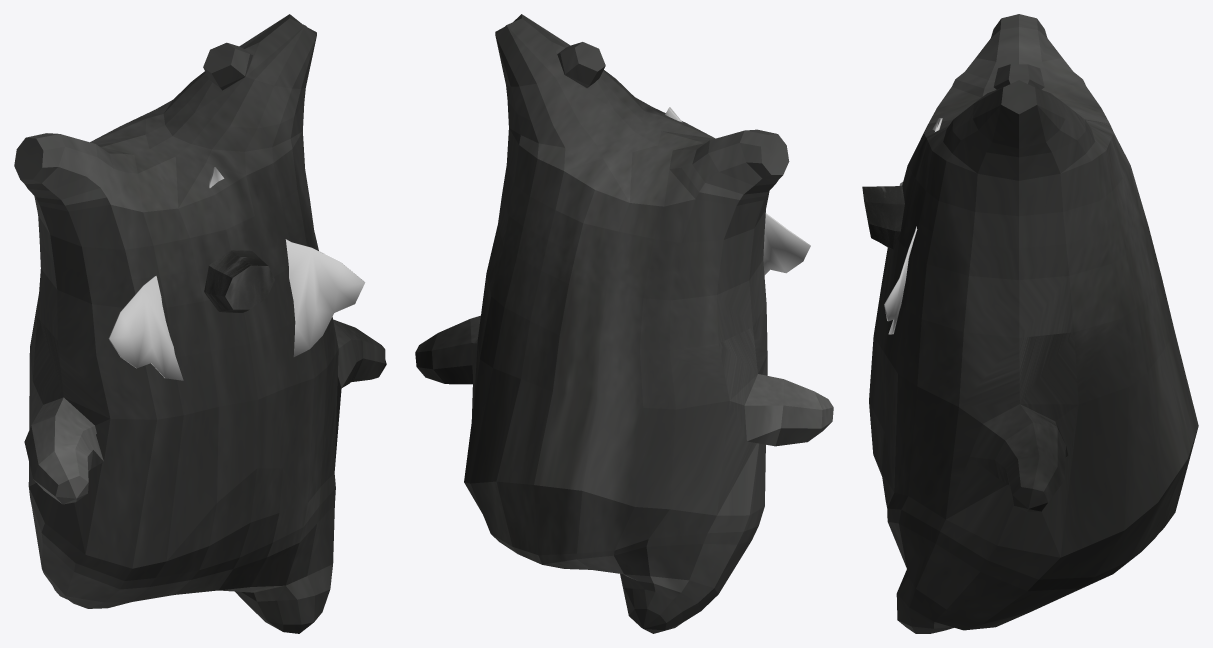
Rendered from frame_0006.obj.
The picture shows the model from 3 angles, left to right: view 1: azimuth 30°, elevation 25°; view 2: azimuth 150°, elevation 25°; view 3: azimuth 270°, elevation 25°; orthographic projection. The views are drawn at different scales.
Parts seen in each view (by area): view 1: korok, leaf, nose; view 2: korok, leaf; view 3: korok, nose, leaf.
Part boxes in pixels (x1,y1,x2,y2): korok: (14,14,386,633); leaf: (108,167,365,380); nose: (204,250,274,312); korok: (415,14,833,633); leaf: (665,107,810,275); korok: (869,14,1198,633); nose: (862,185,904,249); leaf: (884,118,942,334).
Size of the model in its own units: 1.57 by 2.22 by 1.18.
